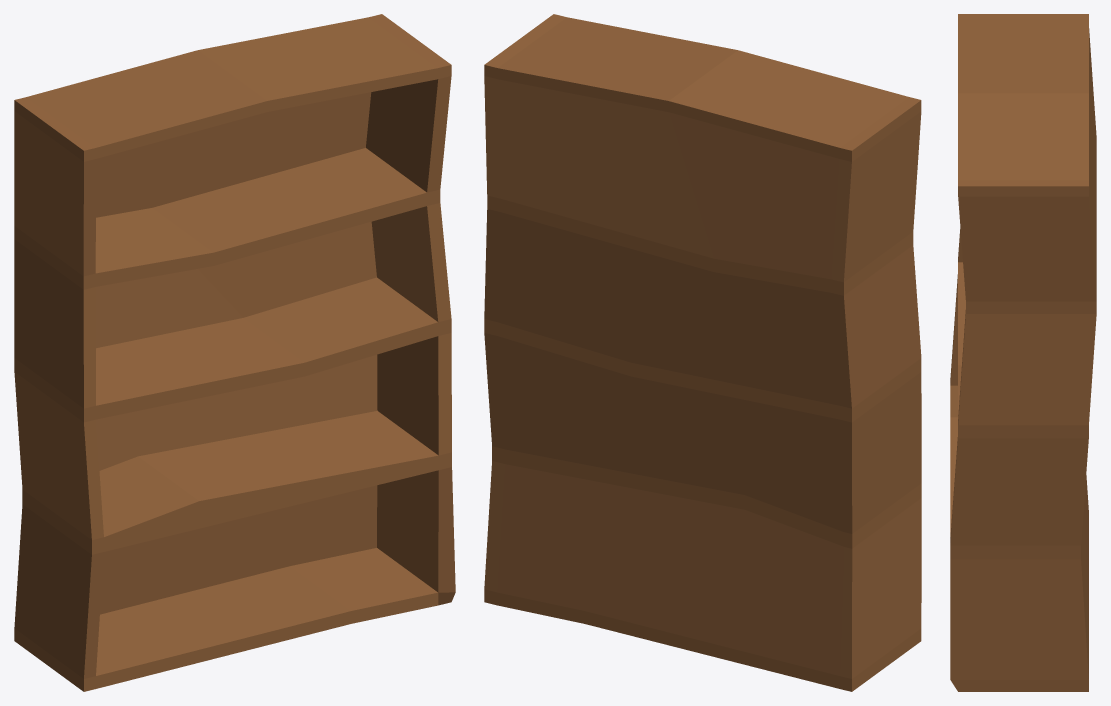
The model's file is Closet5.fbx.
3 renders of one model, left to right at view 1: azimuth 30°, elevation 25°; view 2: azimuth 150°, elevation 25°; view 3: azimuth 270°, elevation 25°, orthographic. The views are drawn at different scales.
Visible parts, largest first — view 1: Cube.272; view 2: Cube.272; view 3: Cube.272.
Boxes of the visible parts, bbox=[...] form: Cube.272: bbox=[14, 14, 455, 691]; Cube.272: bbox=[484, 14, 921, 691]; Cube.272: bbox=[950, 14, 1096, 691].
Bounding box in the file's own units: 611 × 868 × 224.
